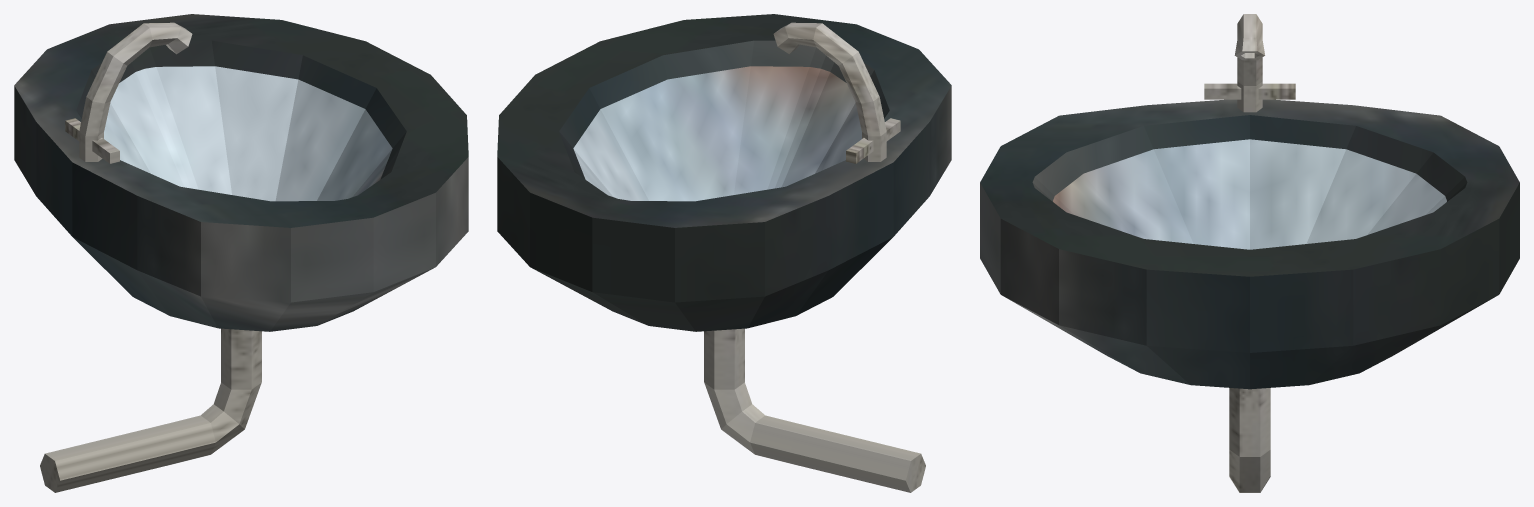
Rendered from bathroom_sink.fbx.
The picture shows the model from 3 angles, left to right: view 1: azimuth 30°, elevation 25°; view 2: azimuth 150°, elevation 25°; view 3: azimuth 270°, elevation 25°; orthographic projection. The views are drawn at different scales.
Visible parts, largest first — view 1: Cylinder; view 2: Cylinder; view 3: Cylinder.
Part boxes in pixels (<box>): Cylinder: <box>14,14,468,492</box>; Cylinder: <box>497,14,951,492</box>; Cylinder: <box>980,14,1519,492</box>.
Size of the model in its own units: 108 by 119 by 130.
